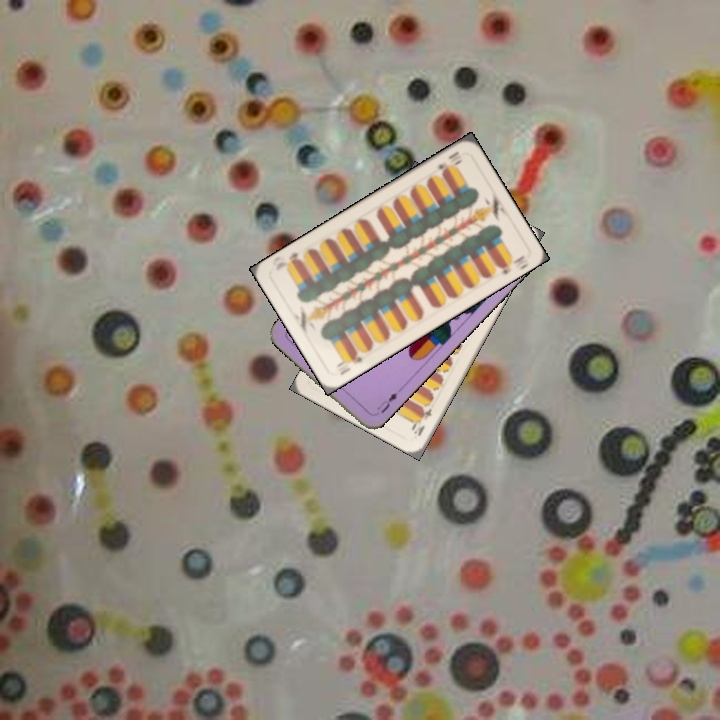E10: (331, 349, 365, 378), (433, 147, 465, 177), (409, 404, 434, 439)
EU: (370, 386, 403, 418)
